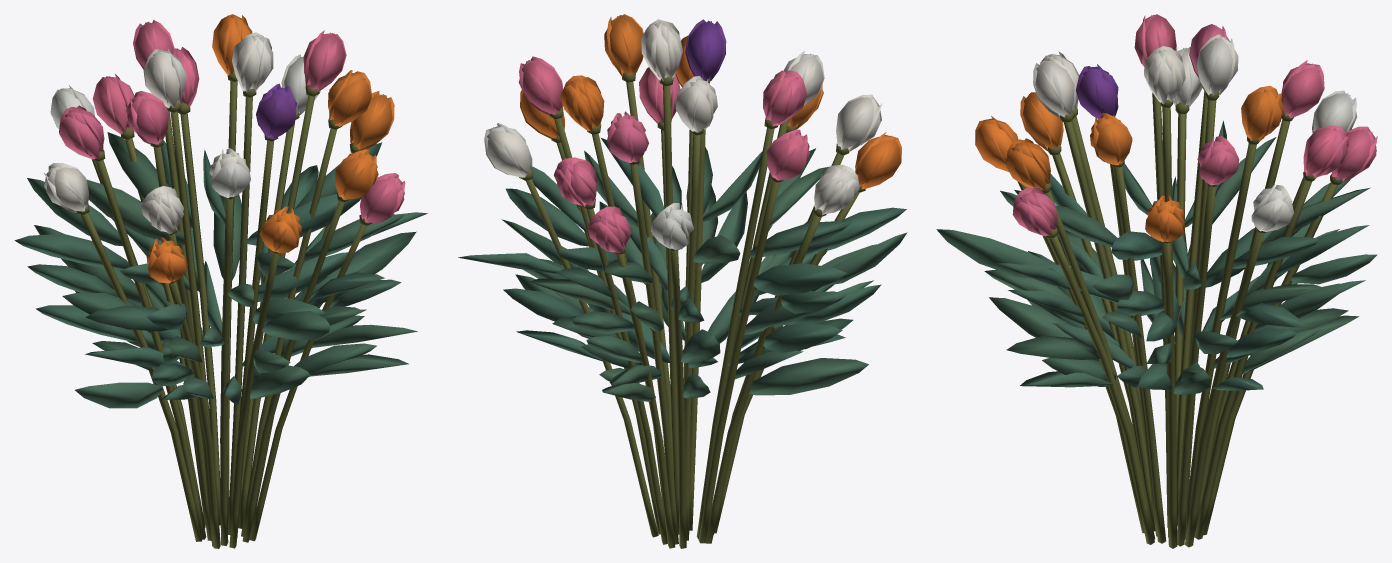
File: bucket_tulips_mixed.glb
The picture shows the model from 3 angles, left to right: view 1: azimuth 30°, elevation 25°; view 2: azimuth 150°, elevation 25°; view 3: azimuth 270°, elevation 25°; orthographic projection.
Parts seen in each view (by area): view 1: Sammel Pflanze, Sammel Putz; view 2: Sammel Pflanze, Sammel Putz; view 3: Sammel Pflanze, Sammel Putz.
Part boxes in pixels (x1,y1,x2,y2): Sammel Pflanze: (14, 14, 427, 408); Sammel Putz: (76, 72, 372, 548); Sammel Pflanze: (458, 14, 907, 401); Sammel Putz: (519, 72, 865, 548); Sammel Pflanze: (936, 14, 1377, 394); Sammel Putz: (1017, 86, 1342, 548).
Bounding box in the file's own units: 0.4388 × 0.5552 × 0.4442.
